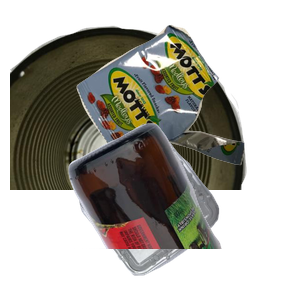glass: (66, 120, 300, 300)
metal: (10, 23, 250, 203)
plastic: (77, 133, 289, 300)
trash: (74, 22, 300, 185)
